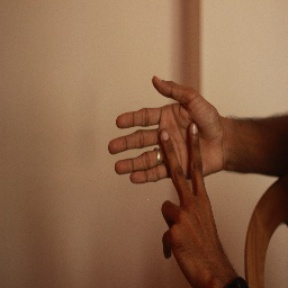N: (100, 71, 238, 254)
